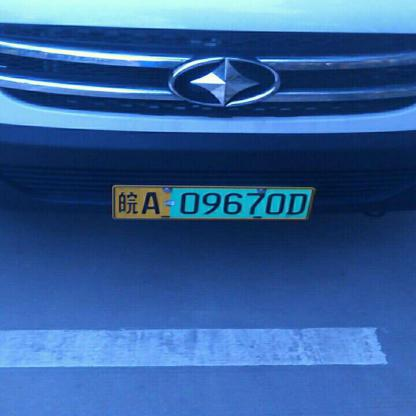lp: (112, 186, 314, 219)
